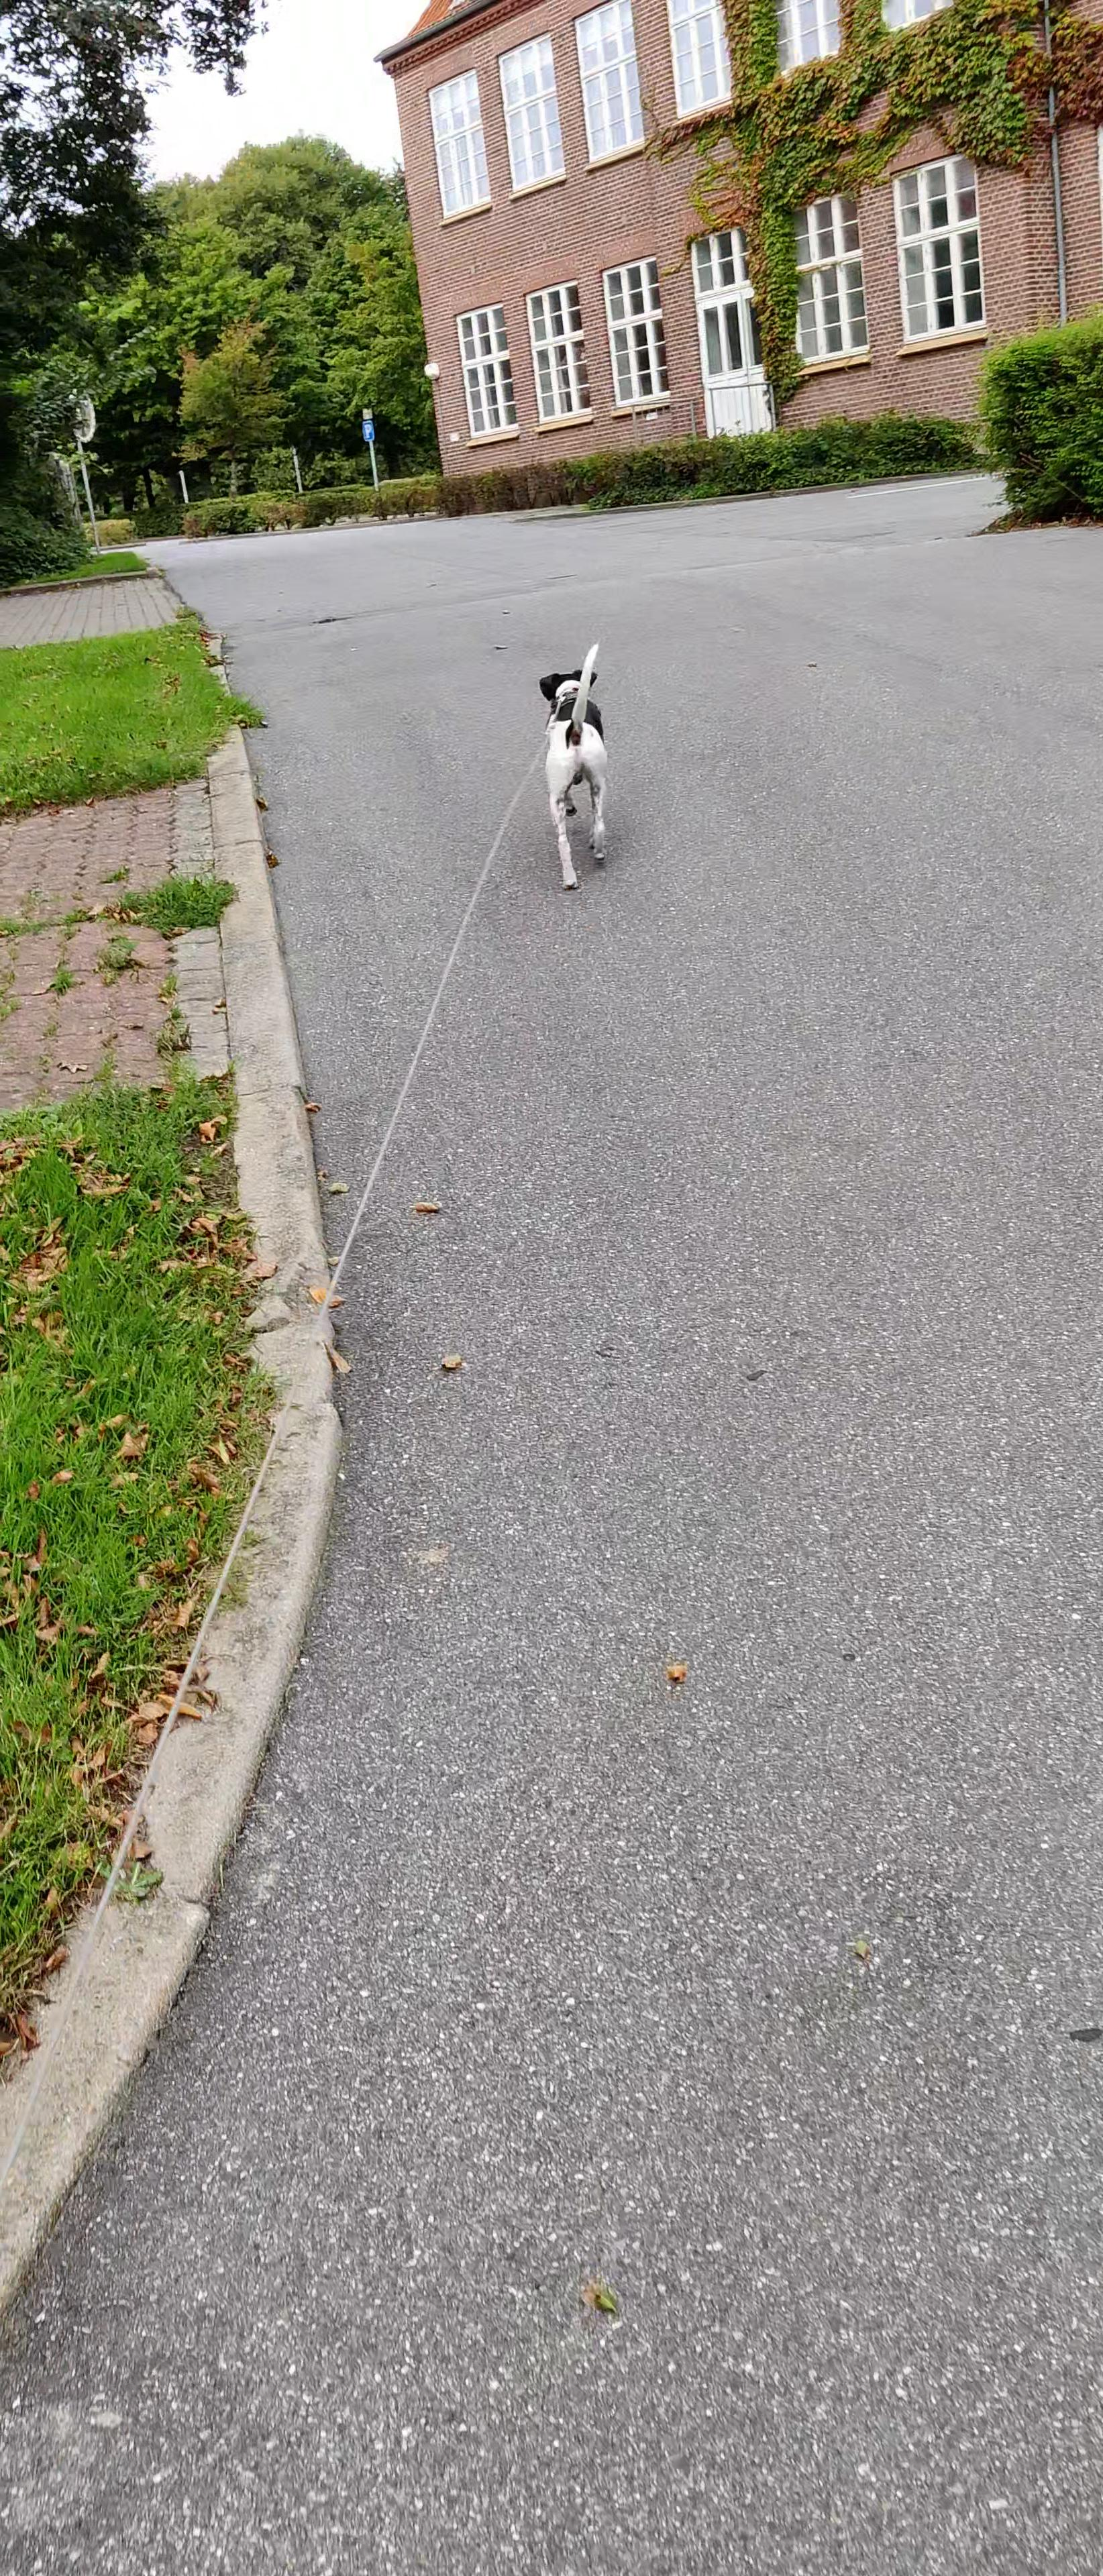Dog: (538, 632, 613, 894)
